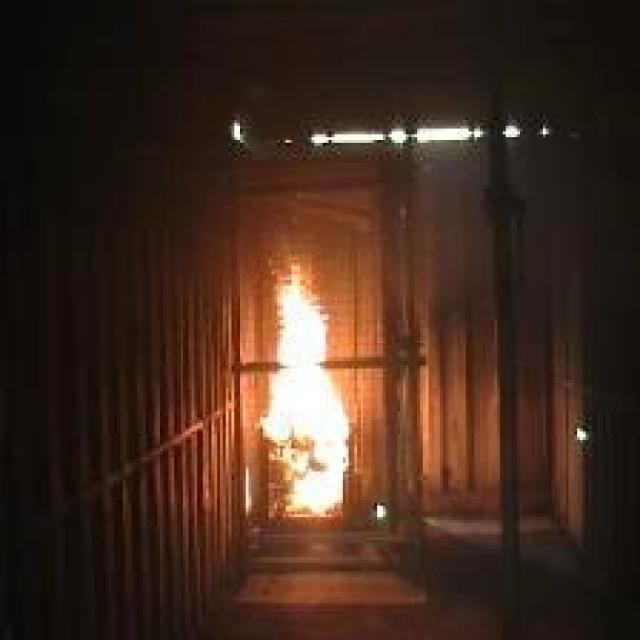fire: (235, 260, 358, 531)
